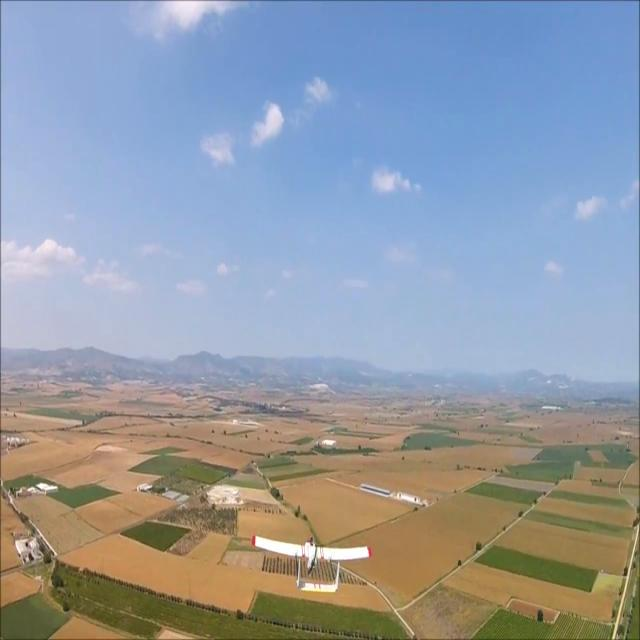iha: (281, 534, 341, 595)
